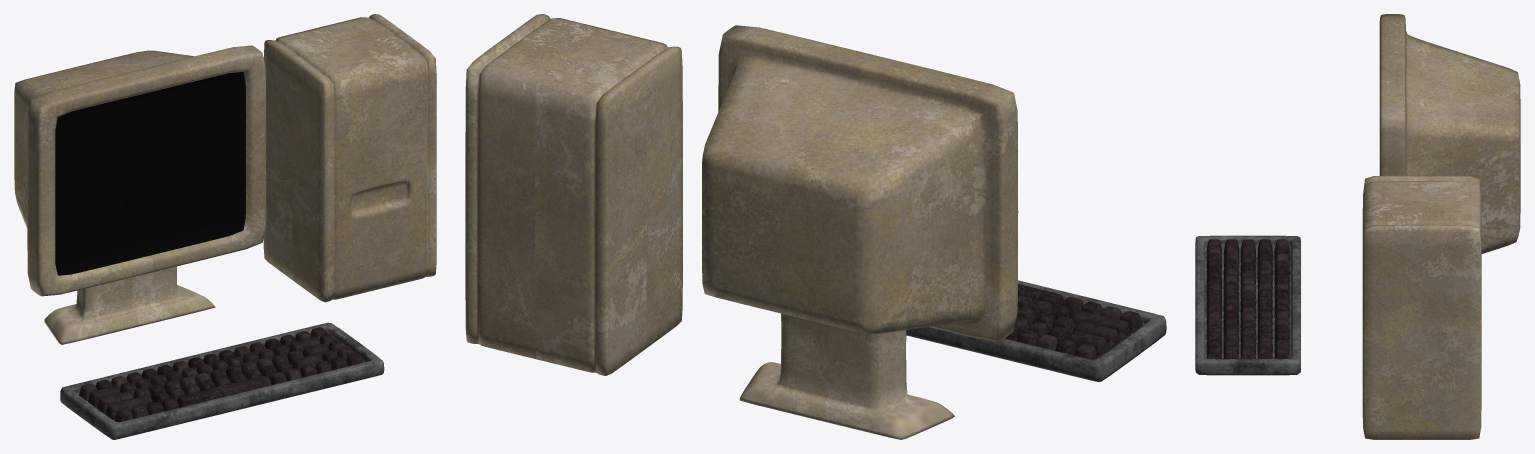
File: Old Computer.fbx
3 renders of one model, left to right at view 1: azimuth 30°, elevation 25°; view 2: azimuth 150°, elevation 25°; view 3: azimuth 270°, elevation 25°, orthographic. The views are drawn at different scales.
Visible parts, largest first — view 1: Cube.003; view 2: Cube.003; view 3: Cube.003.
Boxes of the visible parts, x1,y1,x2,y2 form: Cube.003: (14,14,436,439); Cube.003: (465,14,1166,439); Cube.003: (1195,14,1520,439).
Bounding box in the file's own units: 223 × 134 × 159.
Materials: 1 (1 with a texture image).
